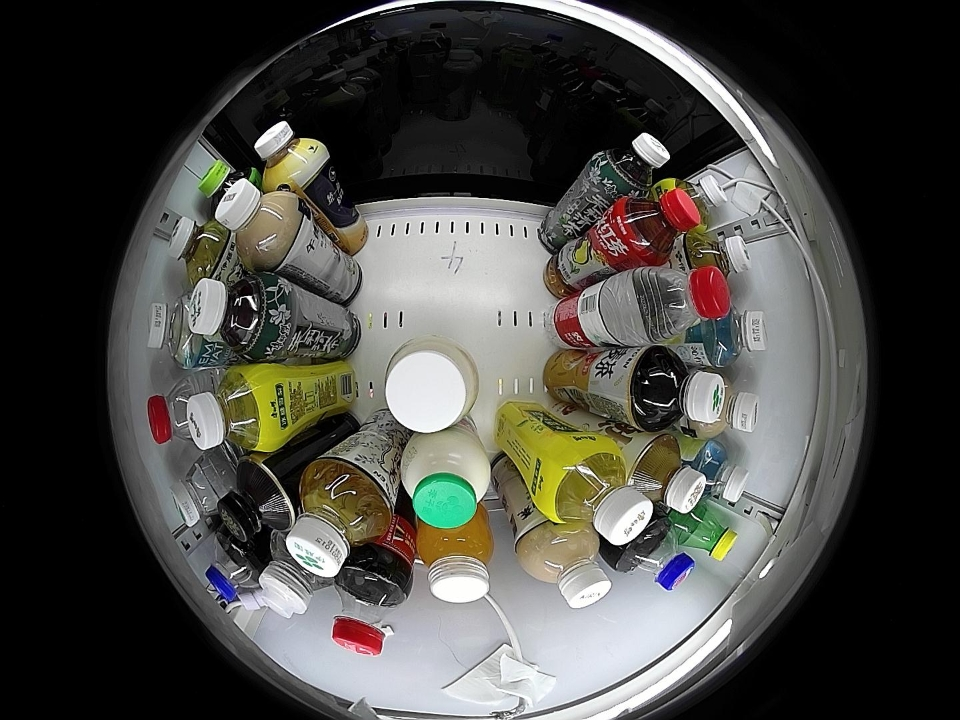asamu: (254, 120, 326, 188)
baicha: (286, 458, 395, 578), (167, 217, 232, 282), (686, 232, 752, 282)
baishikele-2: (615, 518, 694, 592), (205, 534, 264, 602)
binghongcha: (614, 187, 700, 266)
bingtangxueli: (540, 438, 653, 546), (187, 364, 280, 454), (670, 170, 726, 229)
damaicha: (630, 346, 726, 432)
jianjiao: (258, 536, 329, 620)
kele-b: (330, 566, 410, 657)
liziyuan: (400, 430, 491, 529)
moliqingcha: (186, 273, 286, 360), (596, 132, 671, 197)
nongfushanquan: (637, 266, 731, 342), (147, 375, 203, 446)
qinningshui: (149, 295, 210, 368), (702, 305, 768, 367), (690, 440, 750, 505)
rancha-1: (216, 458, 297, 543)
rancha-2: (627, 433, 707, 515)
weic: (416, 515, 494, 604)
wuhounaicha: (517, 521, 612, 609), (215, 178, 302, 269), (694, 372, 761, 437)
xuebi-b: (677, 505, 738, 563)
yibao: (169, 455, 232, 527)
yitengyuan: (196, 160, 257, 213)
yousuanru: (384, 334, 477, 434)
